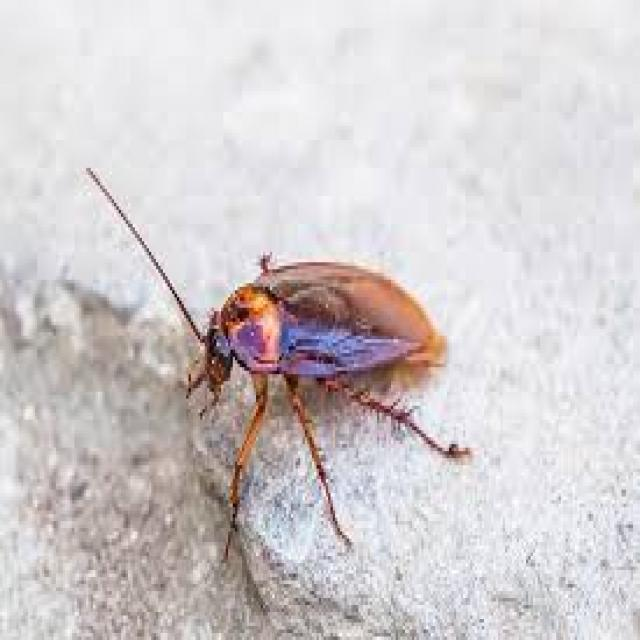Cockroach: (82, 150, 474, 580)
